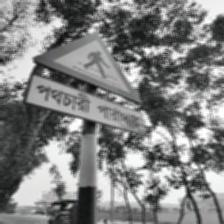Pedestrian-crossing: (25, 31, 147, 135)
